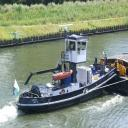tugboat: (13, 24, 122, 117)
